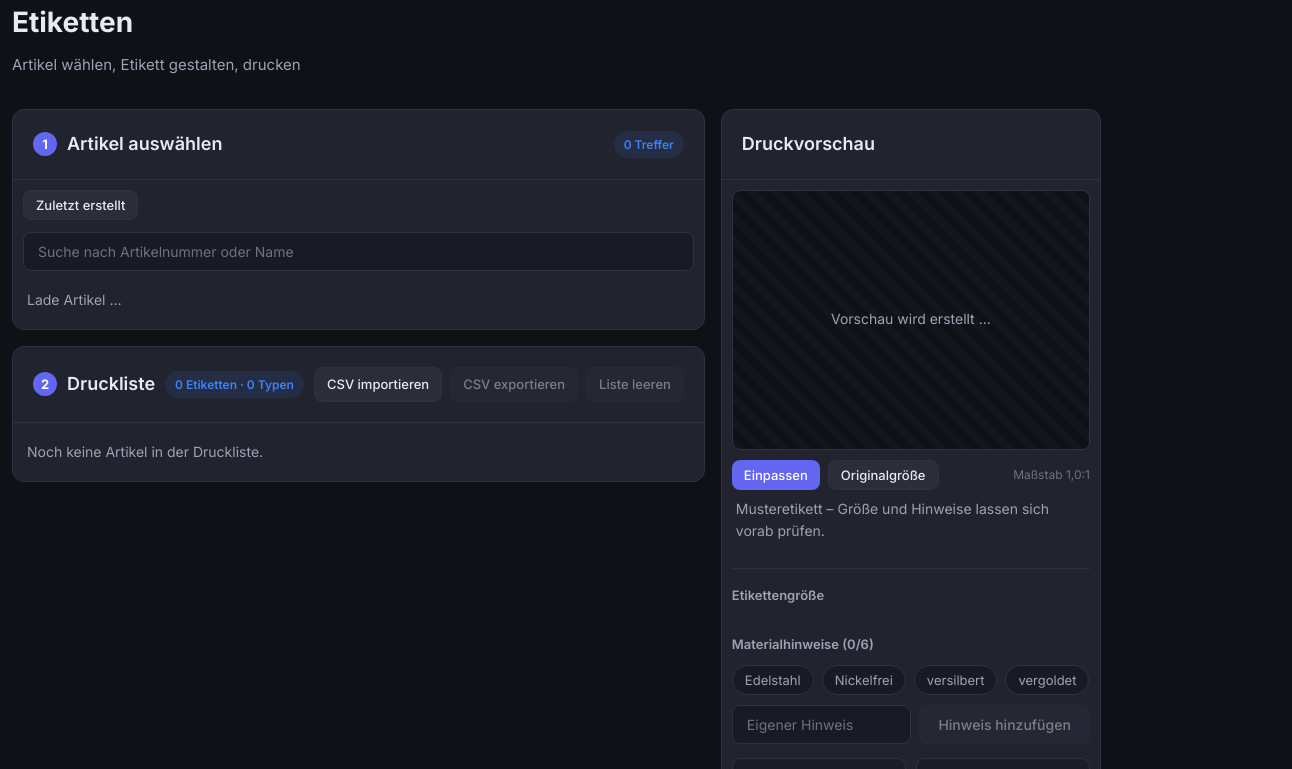
Test: Etiketten › Zuletzt erstellt › lädt per Klick die letzten 20 Basisnummern und zeigt sie an
Click the button "Zuletzt erstellt".
click(81, 205)  # box [23, 190, 138, 220]
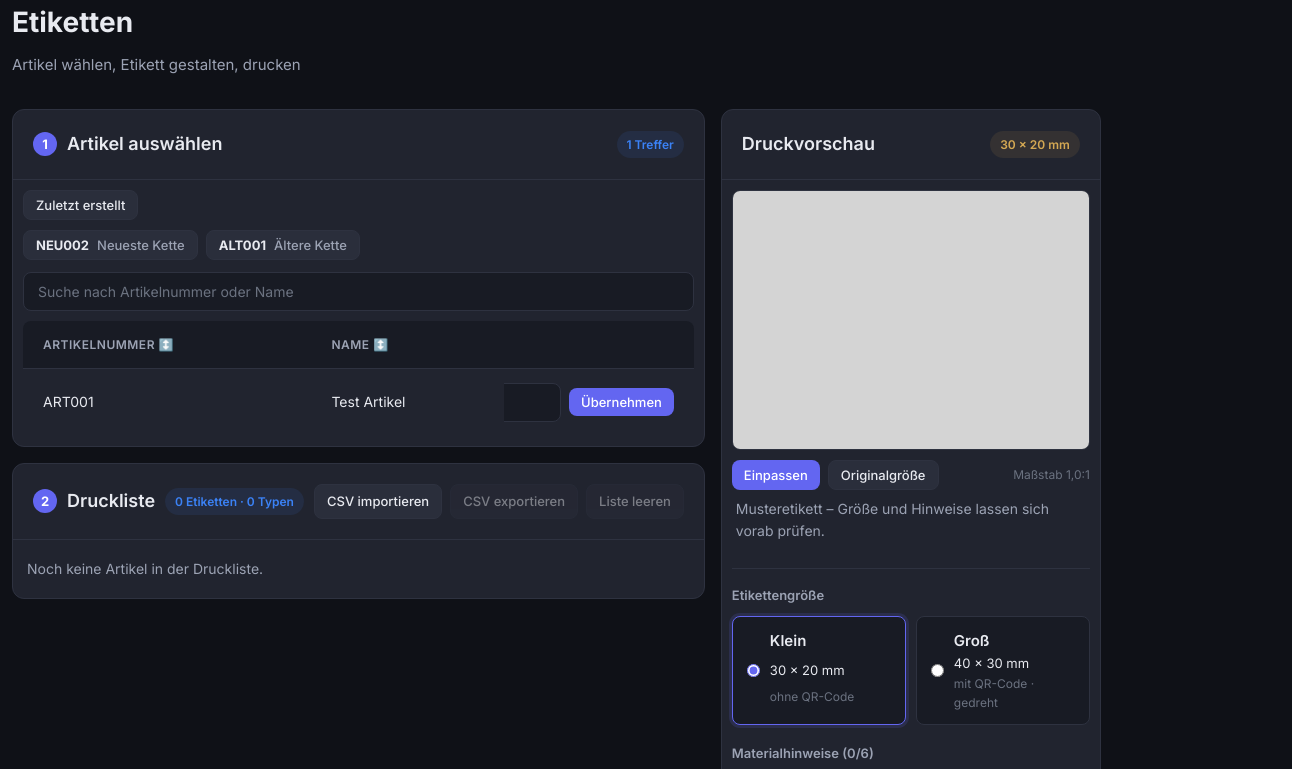
Result: the button with aria-label "NEU002 übernehmen" is shown at [23, 230, 198, 260]
Result: the button with aria-label "ALT001 übernehmen" is shown at [206, 230, 360, 260]
